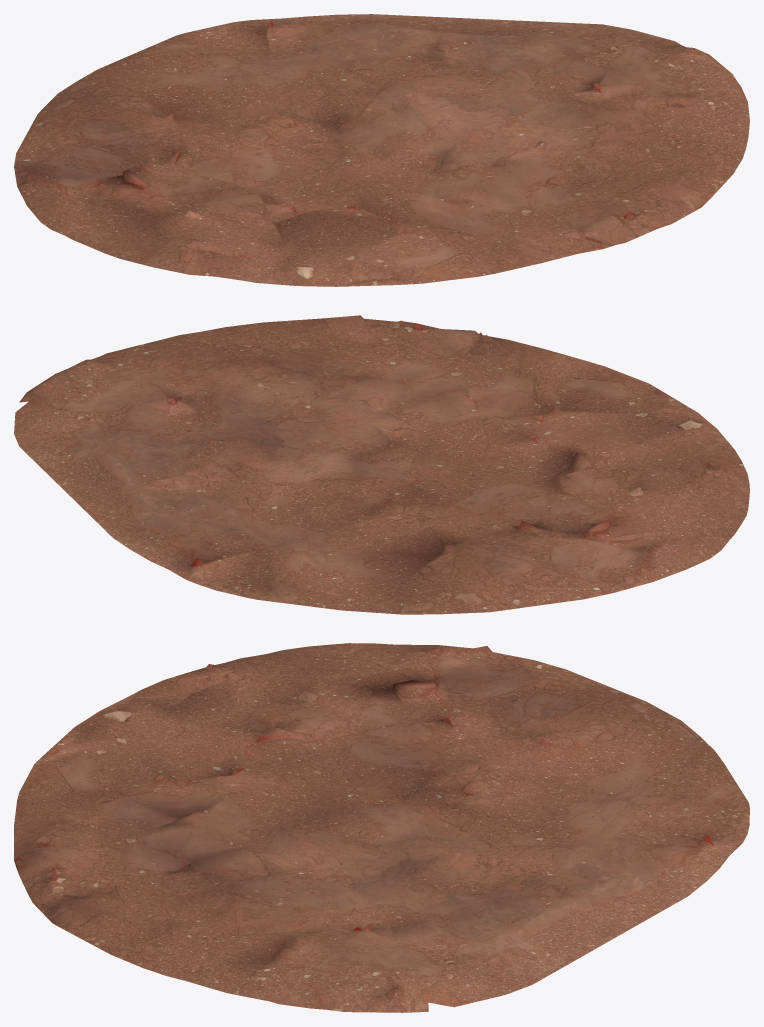
Rendered from highway-ground-patch.glb.
3 renders of one model, top to bottom at view 1: azimuth 30°, elevation 25°; view 2: azimuth 150°, elevation 25°; view 3: azimuth 270°, elevation 25°, orthographic. The views are drawn at different scales.
Bounding box in the file's own units: 2.23 × 0.0563 × 1.87.
1 material, 1 textured.
